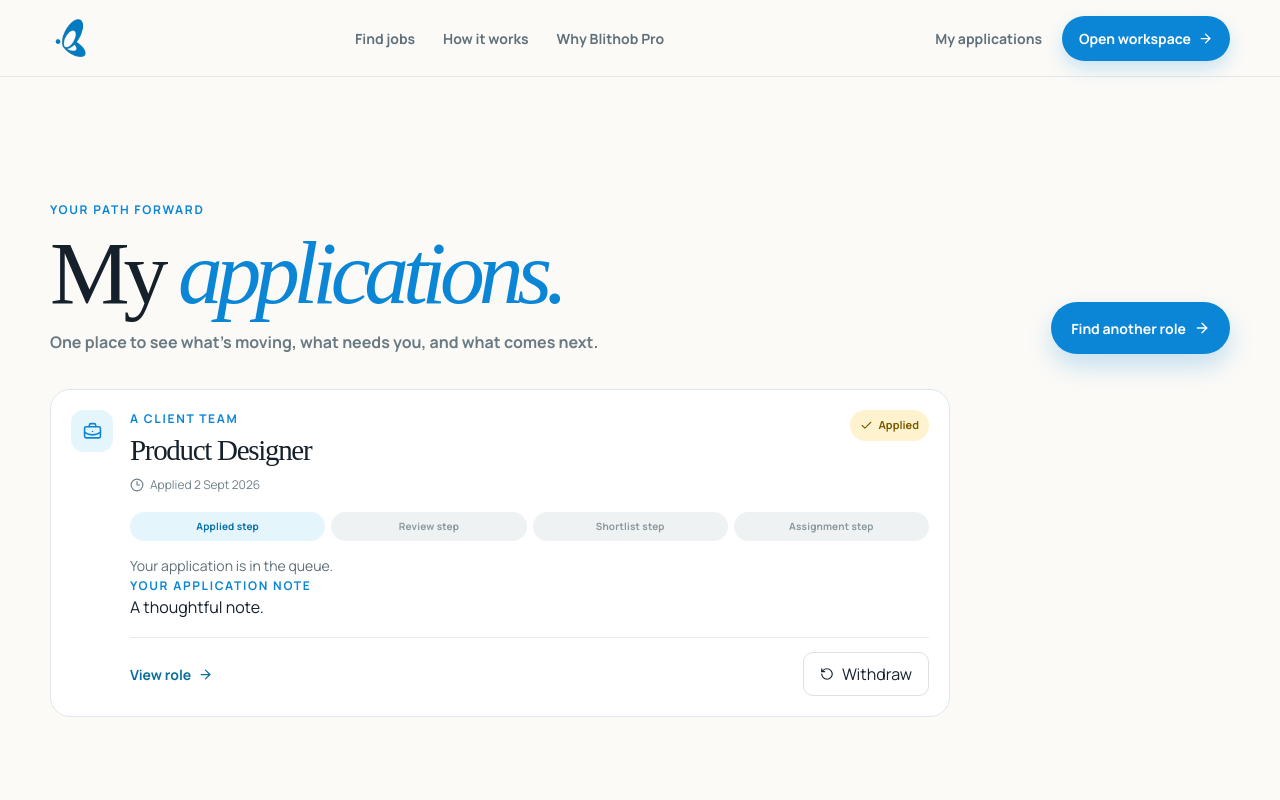
Test case: PublicApplicationsPage › surfaces a safe withdrawal error instead of silently changing the application
Click the button "Withdraw" at (866, 674), box x1=803 y1=652 x2=929 y2=696
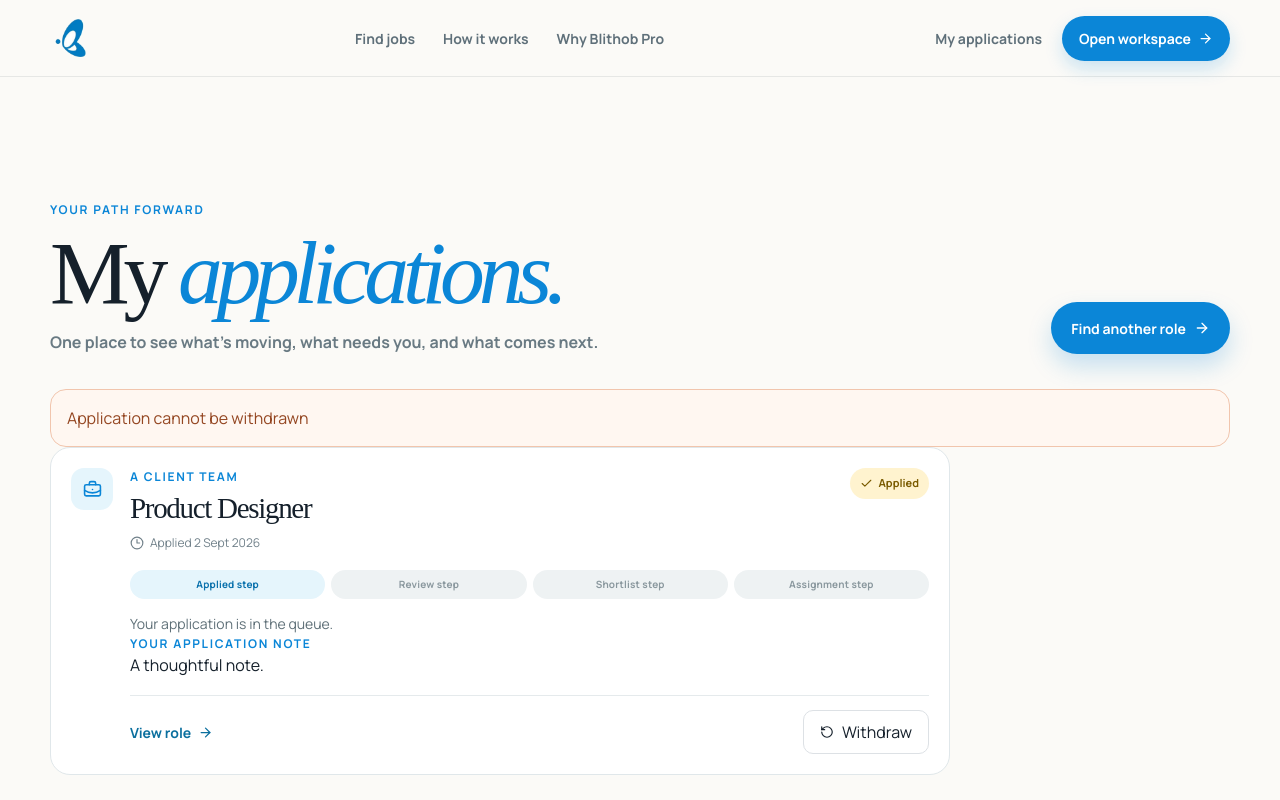
Result: the message reads "Application cannot be withdrawn" at x1=67 y1=407 x2=308 y2=429
